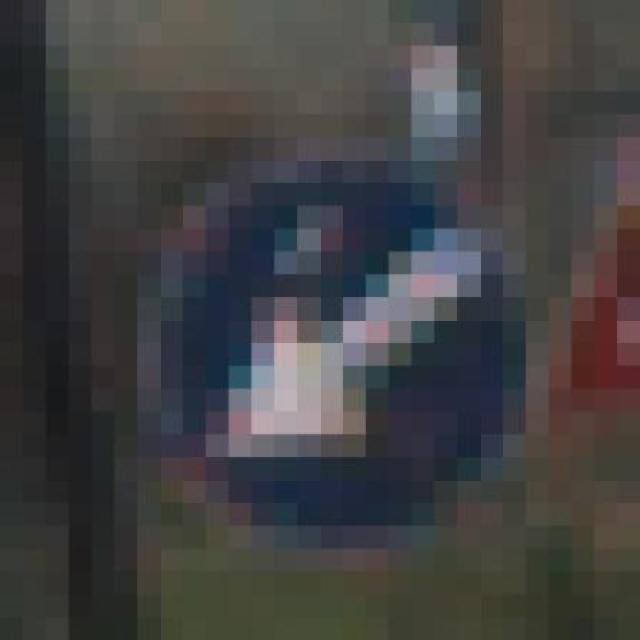Keep-Left: (114, 69, 572, 548)
